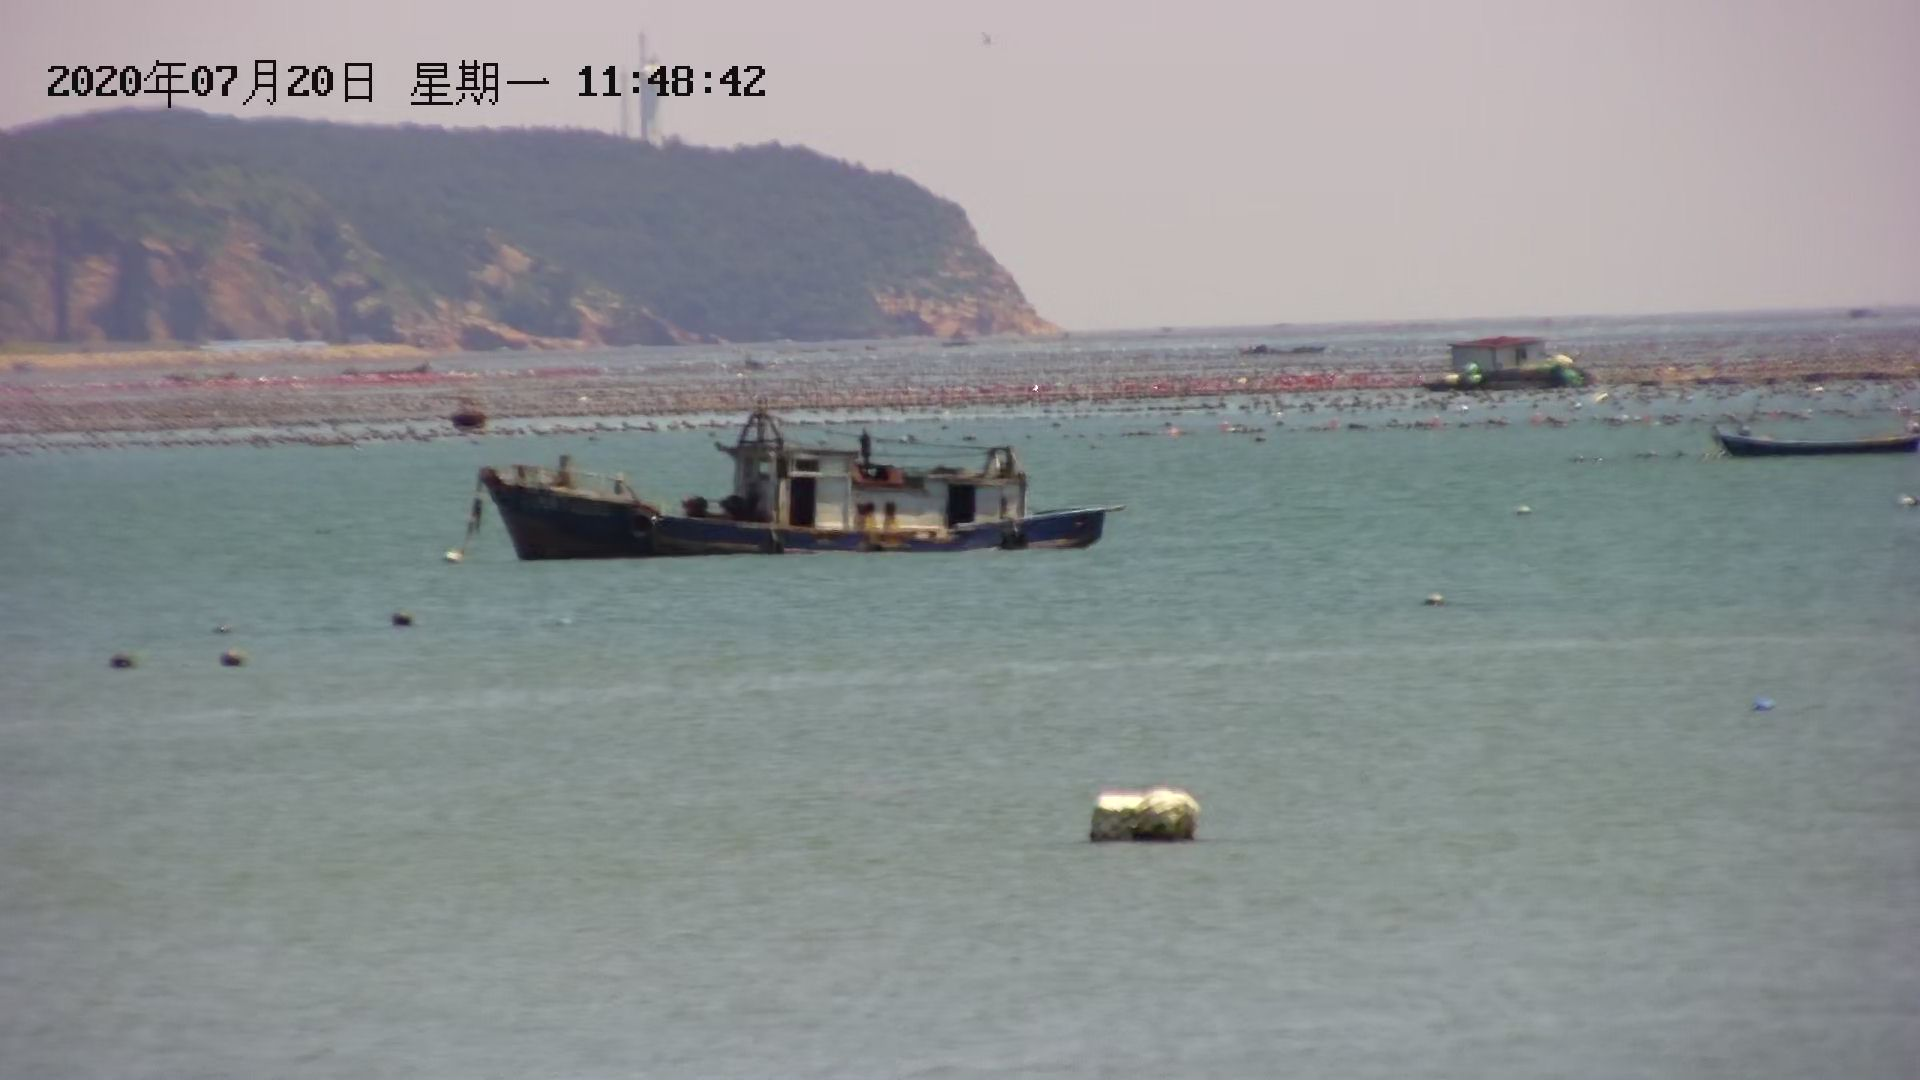ball: (381, 608, 433, 641), (218, 645, 249, 673), (105, 645, 136, 669)
boat: (443, 398, 1134, 576), (1697, 413, 1920, 459)
platform: (1422, 330, 1604, 398)
rubbish: (1085, 789, 1221, 847)
